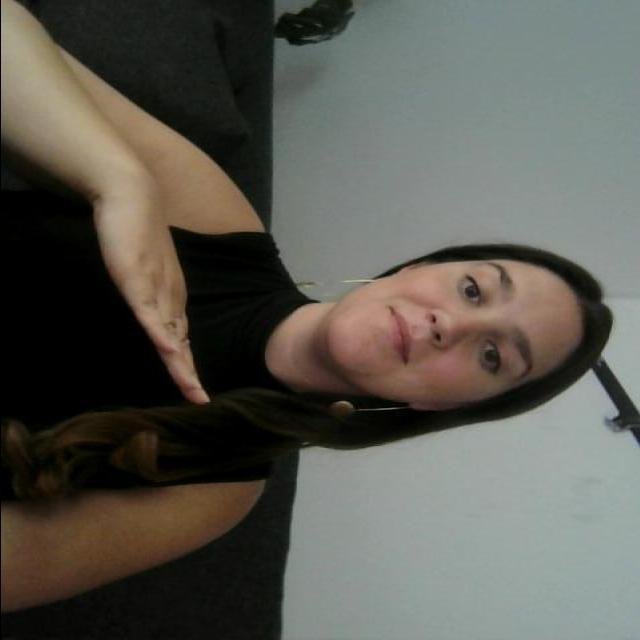Paper: (89, 206, 202, 397)
